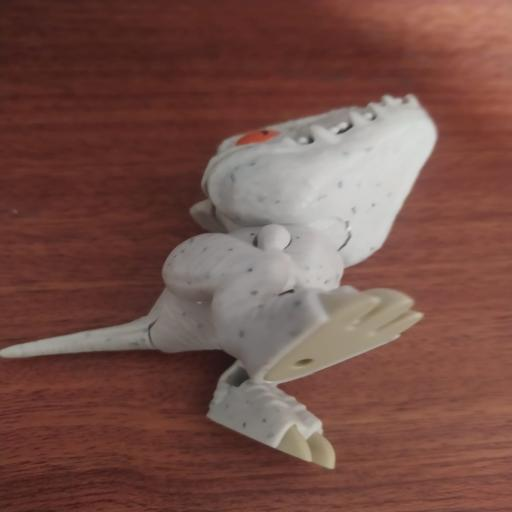Dinosaurio: (1, 83, 450, 473)
